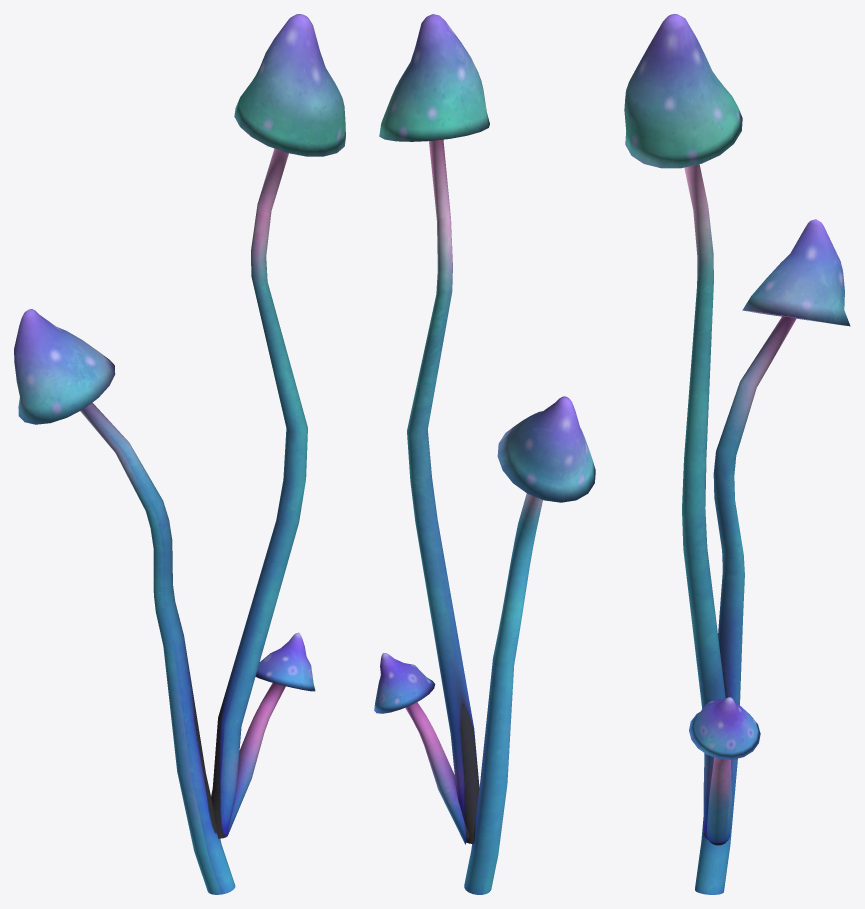
Rendered from Mushroom_04.gltf.
3 views of the same model, side by side, from view 1: azimuth 30°, elevation 25°; view 2: azimuth 150°, elevation 25°; view 3: azimuth 270°, elevation 25° (orthographic). The views are drawn at different scales.
Parts seen in each view (by area): view 1: Mushroom_04(Clone); view 2: Mushroom_04(Clone); view 3: Mushroom_04(Clone).
Boxes of the visible parts, x1,y1,x2,y2 form: Mushroom_04(Clone): (14,14,345,894); Mushroom_04(Clone): (374,14,595,894); Mushroom_04(Clone): (624,14,850,894).
Size of the model in its own units: 7.13 by 22.8 by 5.14.
1 material, 1 textured.
